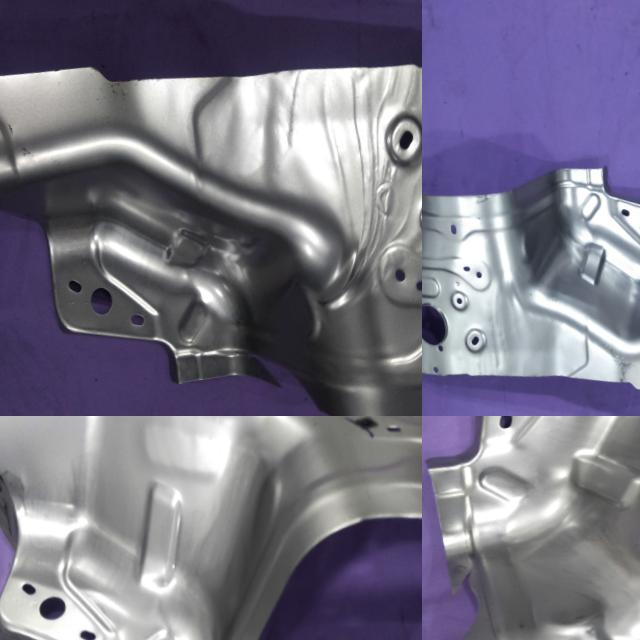Defect: (422, 545, 504, 640), (222, 351, 326, 408)
Healthy: (0, 416, 422, 640)
